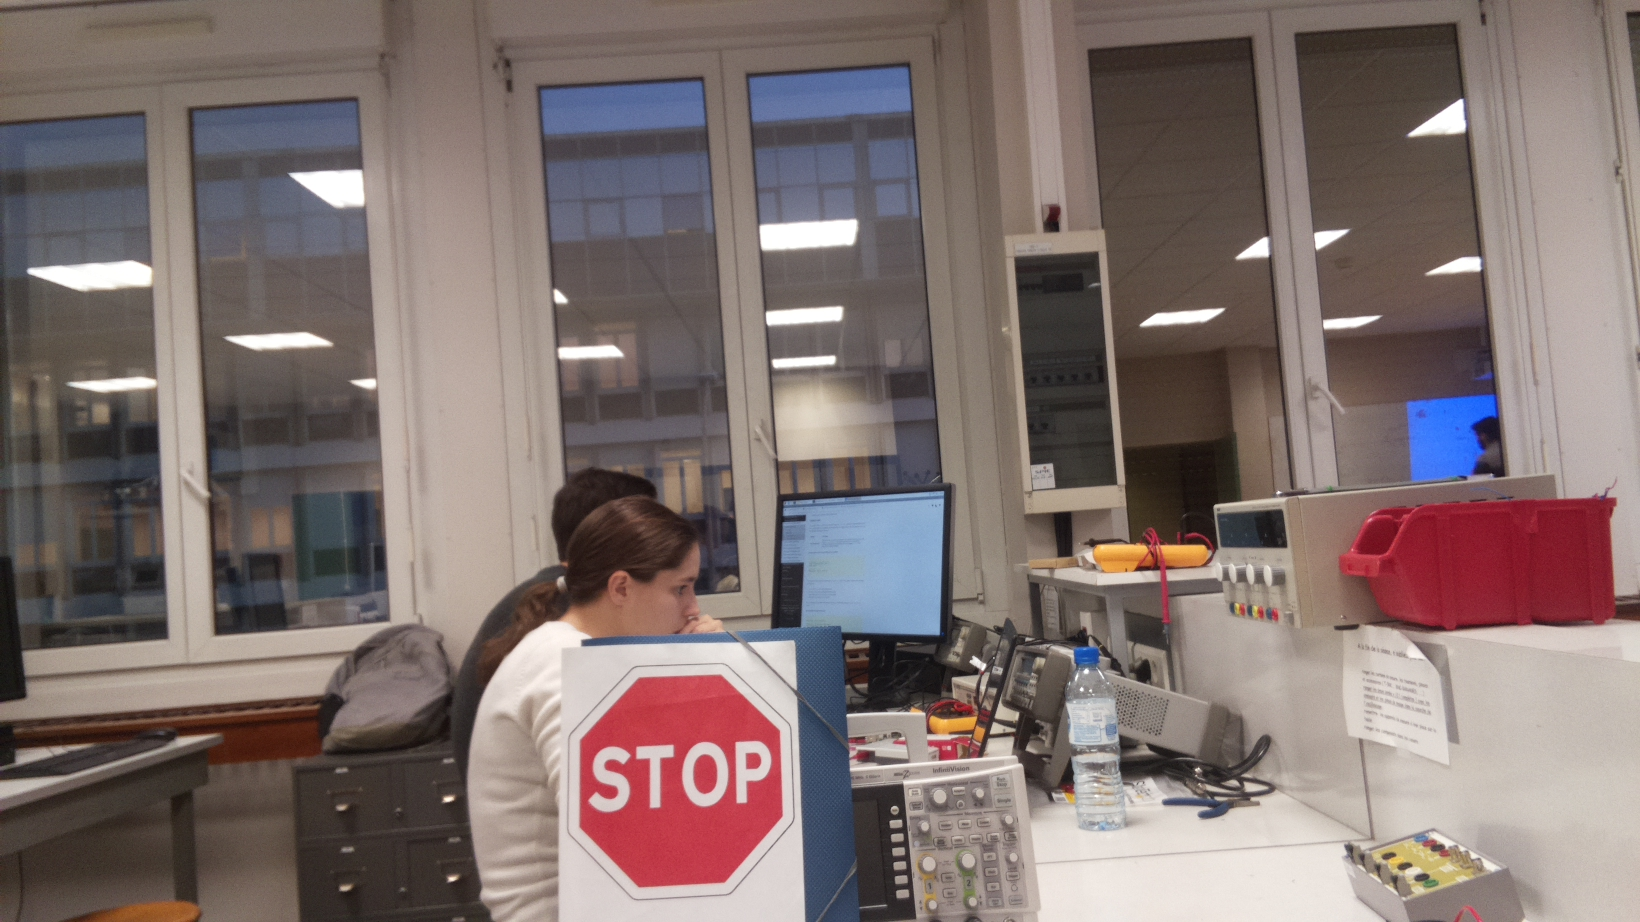stop: (568, 662, 797, 899)
